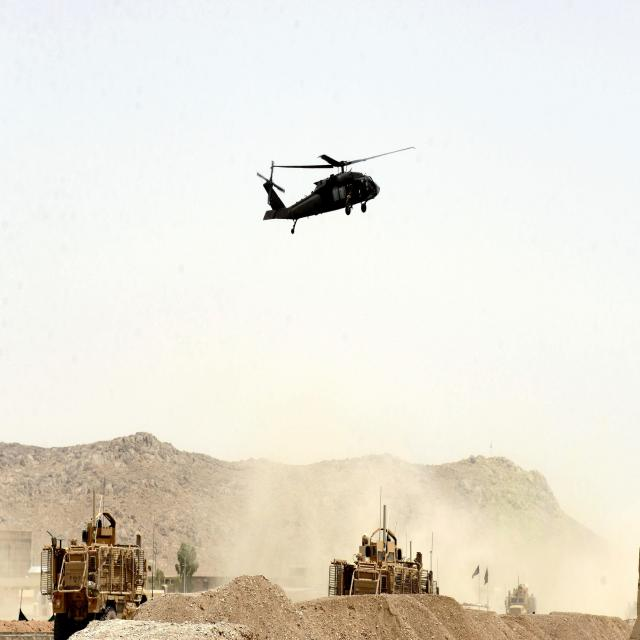Tanks: (330, 491, 452, 592)
